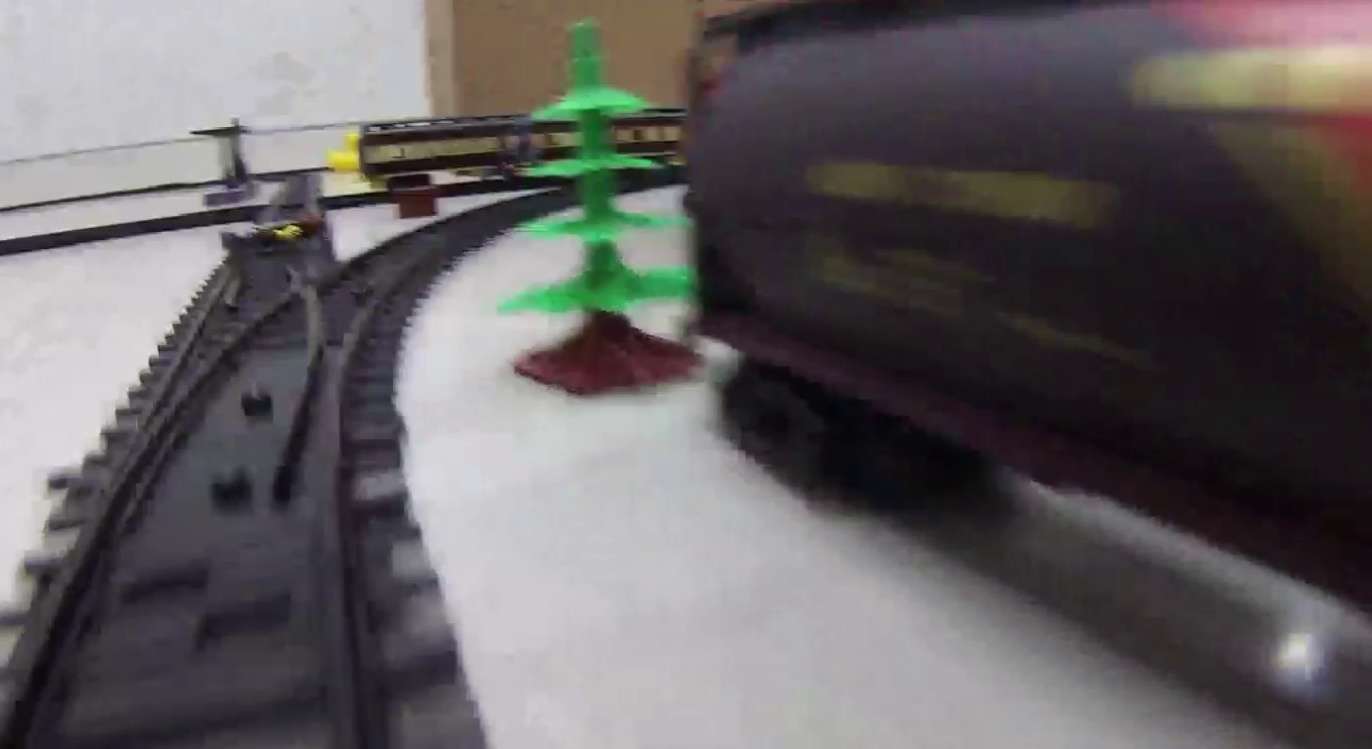tree: (498, 24, 693, 390)
